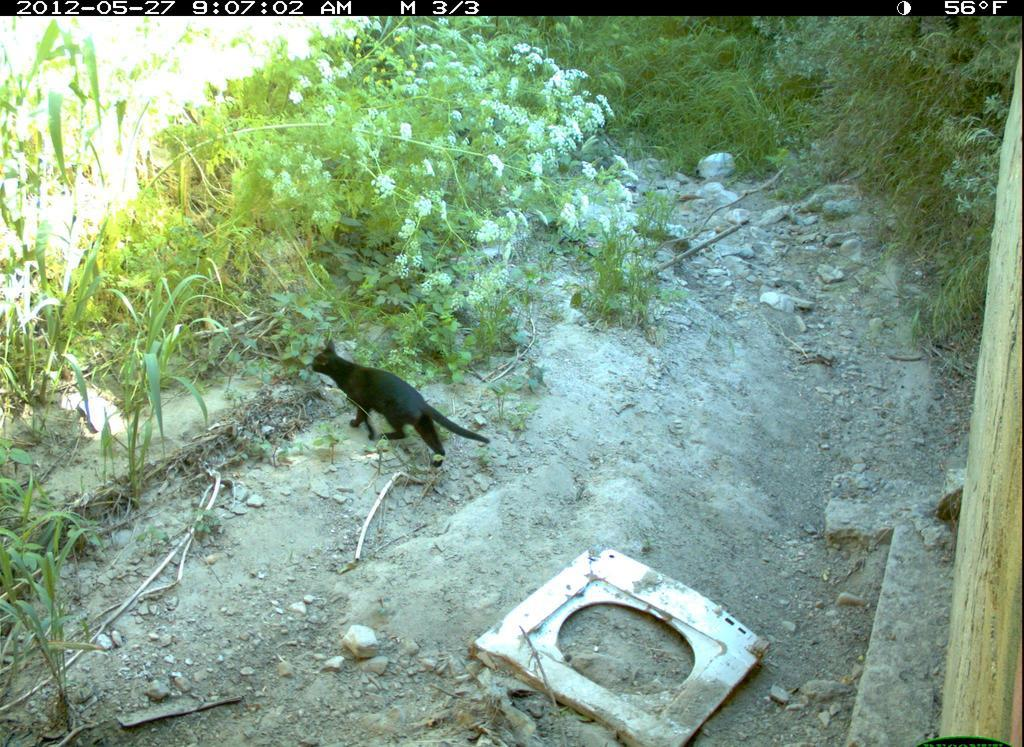cat: (304, 328, 518, 475)
